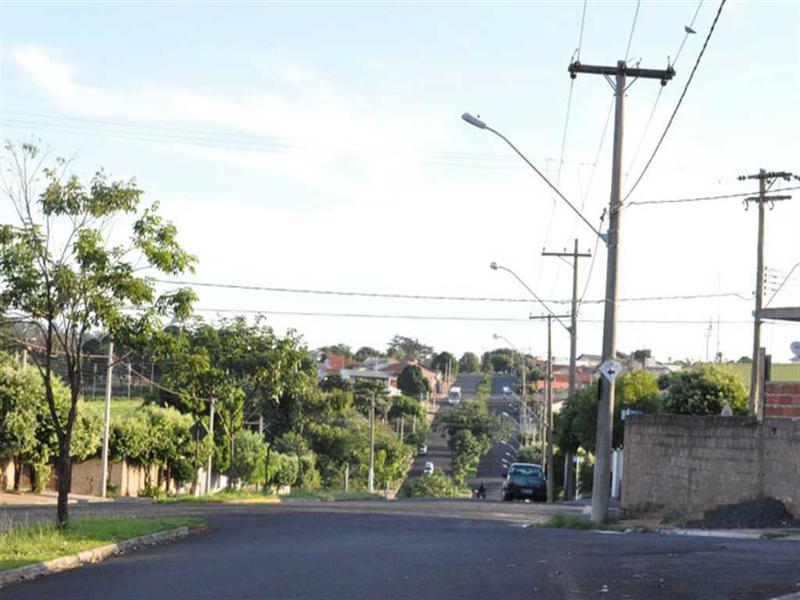IP: (455, 103, 603, 234), (482, 261, 575, 339)
